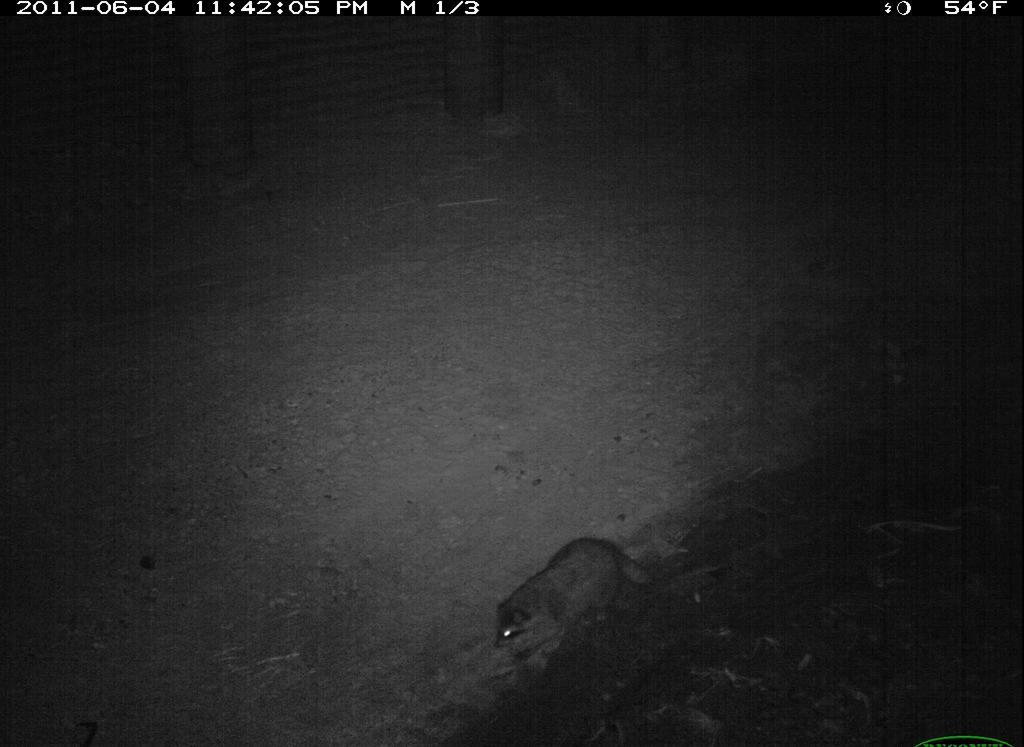raccoon: (491, 528, 662, 669)
